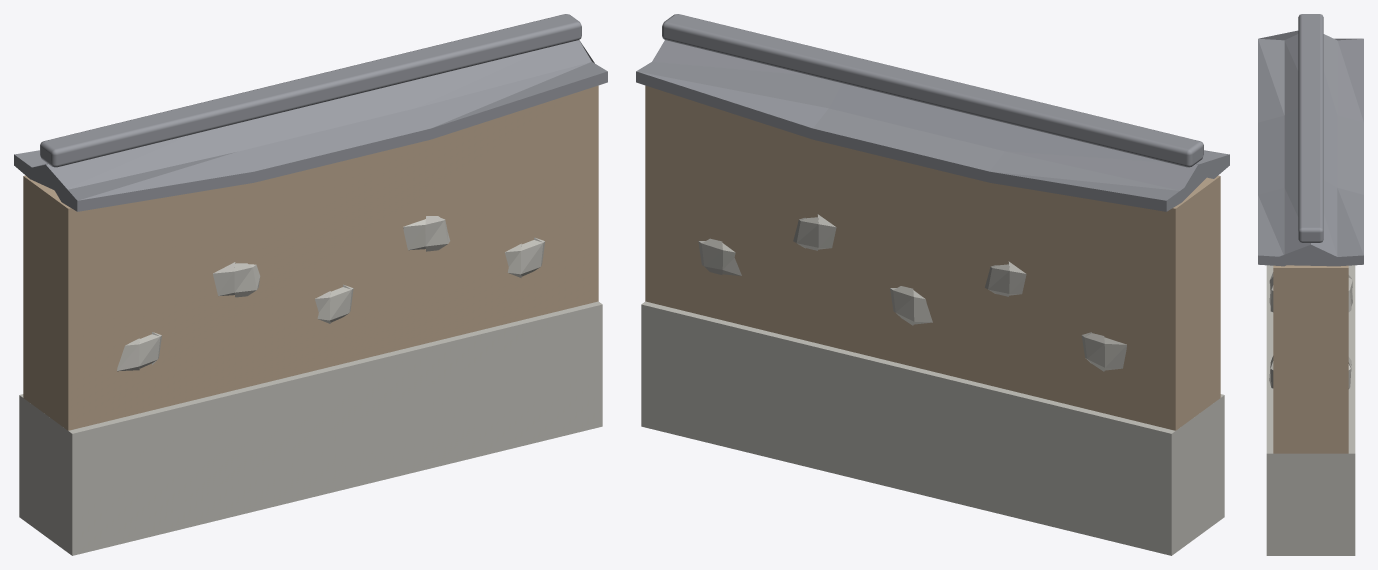
Rendered from korean-hanok-village-and-street-village-wall-straight-10dd1da2__38048.glb.
3 renders of one model, left to right at view 1: azimuth 30°, elevation 25°; view 2: azimuth 150°, elevation 25°; view 3: azimuth 270°, elevation 25°, orthographic. The views are drawn at different scales.
Parts seen in each view (by area): view 1: village-wall-straight; view 2: village-wall-straight; view 3: village-wall-straight.
Part boxes in pixels (left/top/right/bottom): village-wall-straight: left=14, top=14, right=607, bottom=555; village-wall-straight: left=636, top=14, right=1229, bottom=555; village-wall-straight: left=1258, top=14, right=1363, bottom=555.
Size of the model in its own units: 3 by 2.11 by 0.62.
